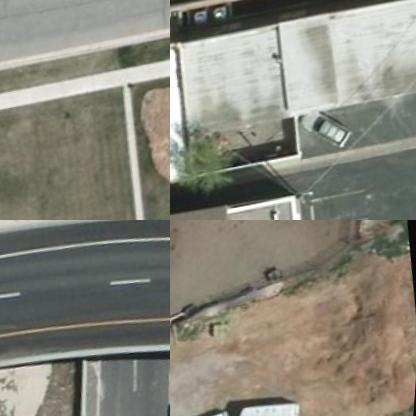car: (300, 101, 359, 151), (170, 404, 240, 415)
